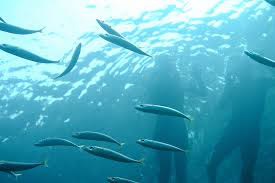saba: (132, 100, 192, 127)
